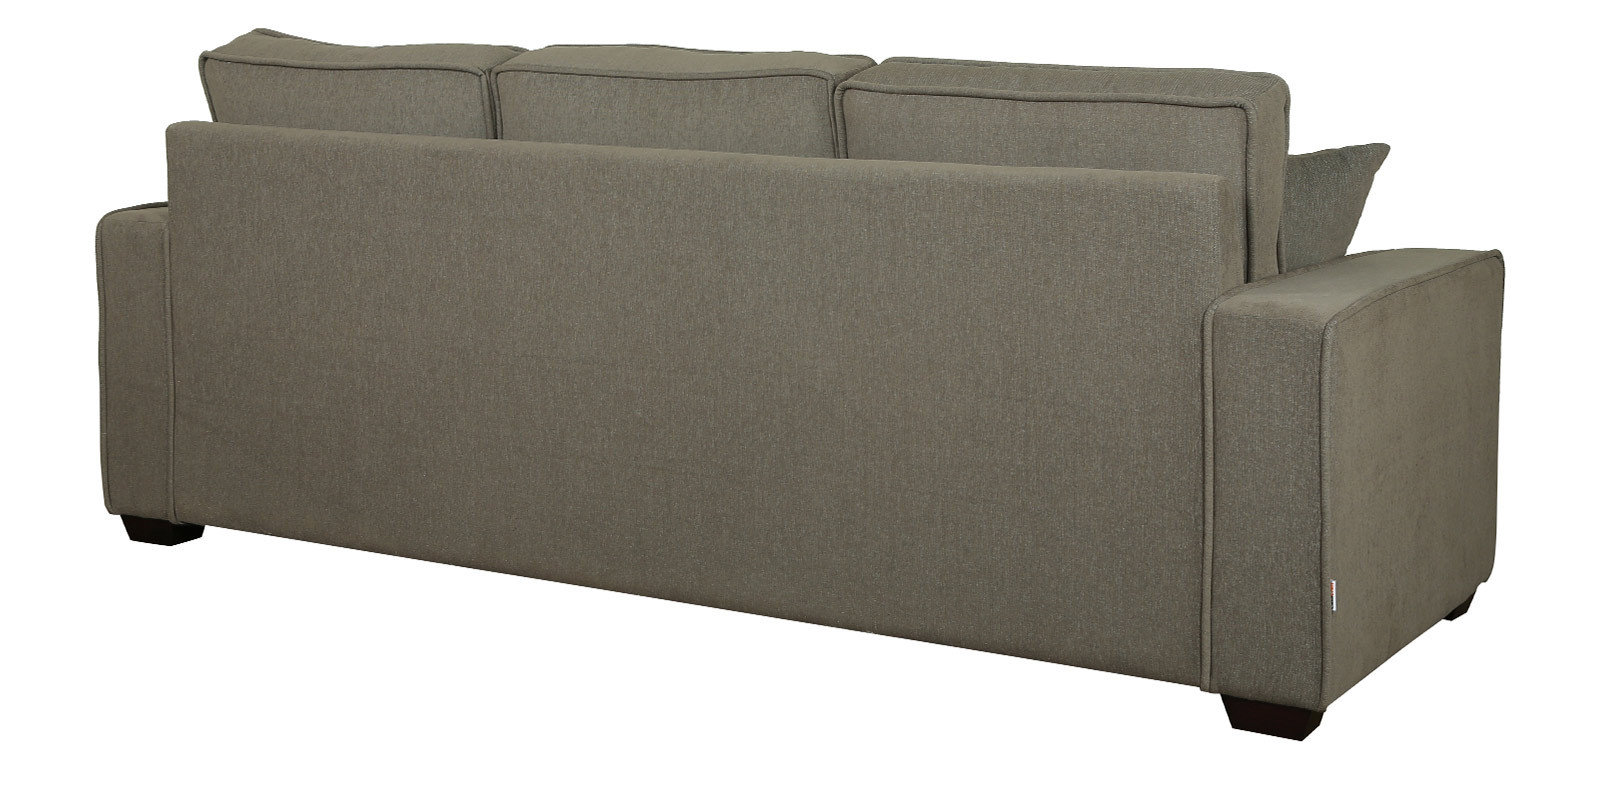Hugo Three Seater Sofa in Sandy Brown Colour by CasaCraft: (76, 14, 1535, 753)
